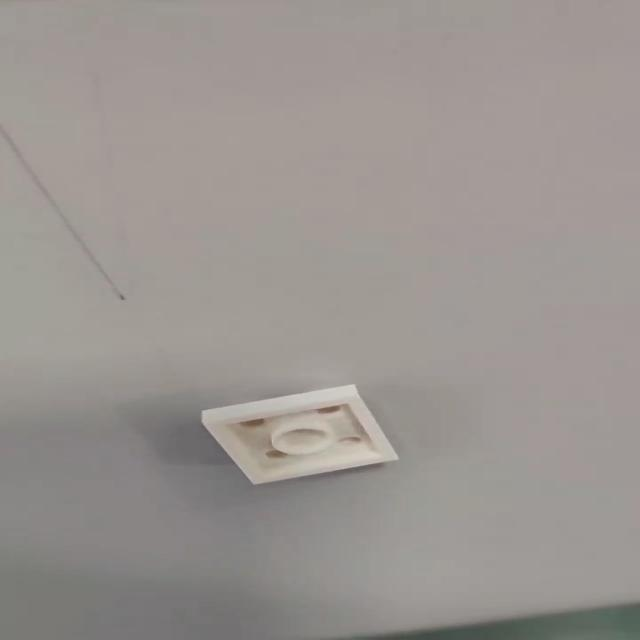C2x2x0: (195, 386, 405, 488)
